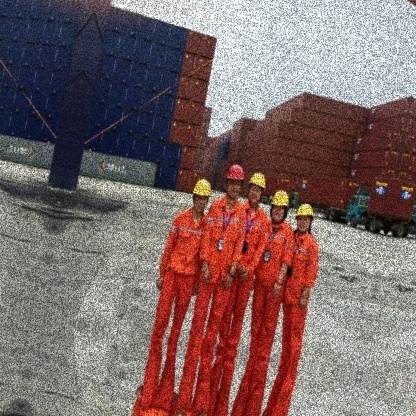red: (220, 159, 247, 184)
vest: (195, 190, 252, 285), (280, 224, 327, 309), (226, 199, 272, 283), (160, 205, 212, 279), (252, 214, 297, 289)
yellow: (188, 175, 215, 199), (294, 198, 320, 221), (246, 169, 269, 192), (270, 186, 292, 210)
